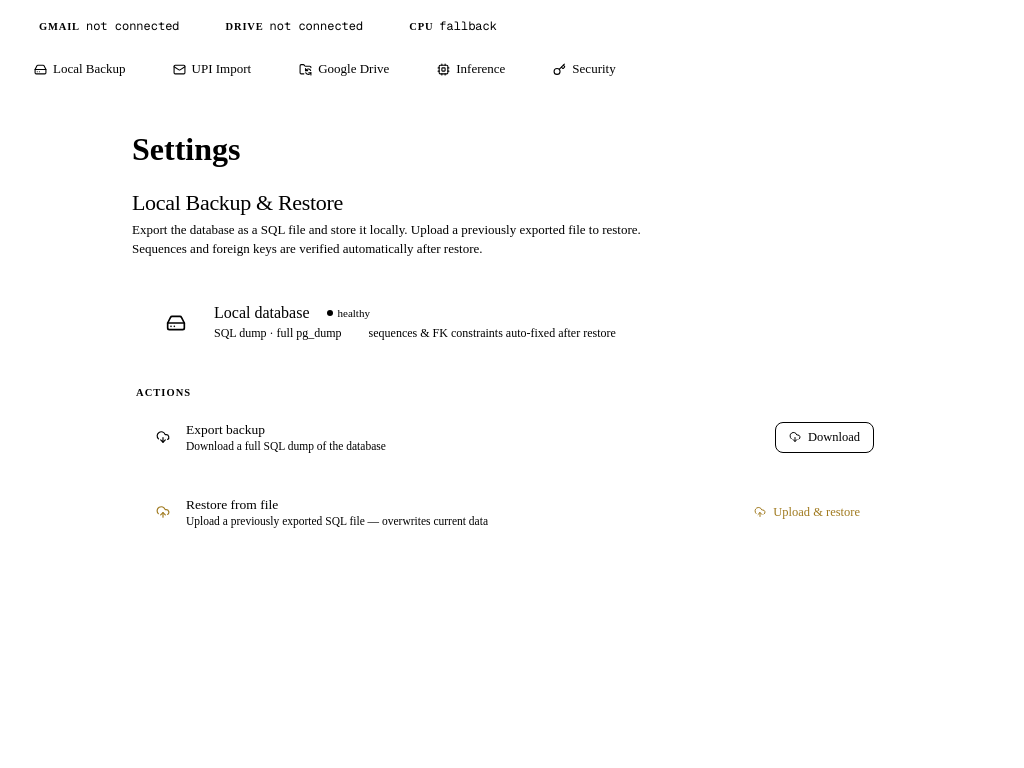
Settings (SM-03, SM-04, SM-07) › phone: the tab row lists the same five sections and switches through the URL
Step 1. Click the button "Security" → click(591, 69), box top-left (538, 52), bottom-right (643, 86)
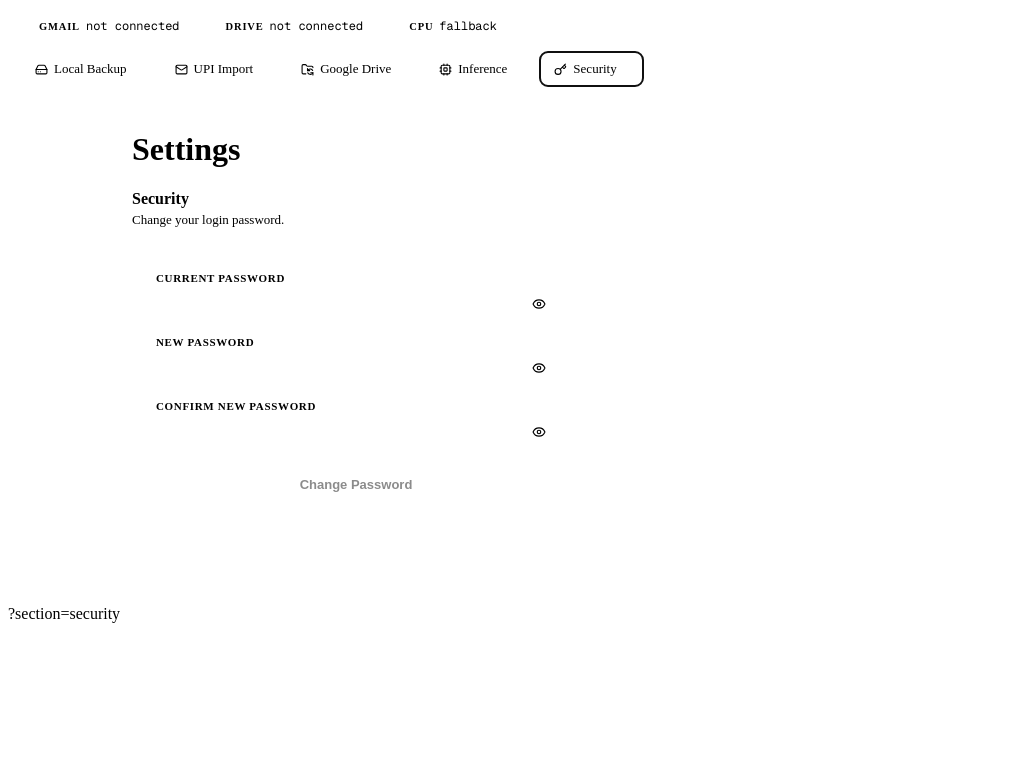
Expected: the heading "Security" is shown, top-left (132, 190), bottom-right (189, 207)
Expected: the text with test id "url" shows "section=security", top-left (8, 605), bottom-right (120, 622)
